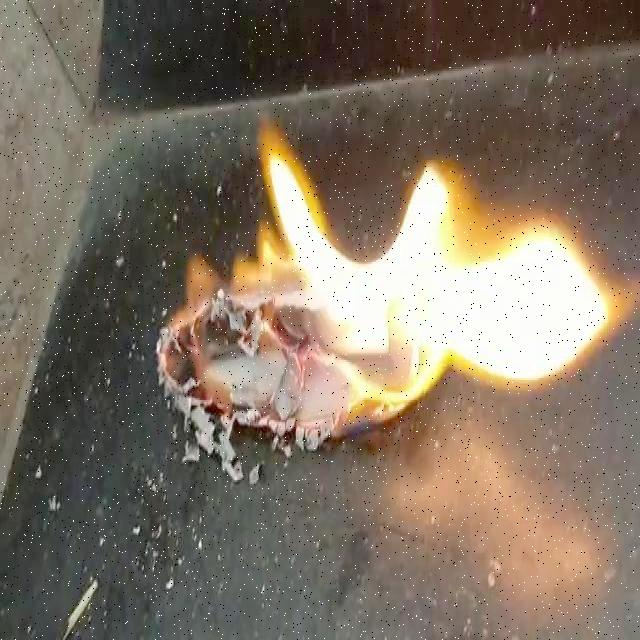fire: (269, 123, 625, 410), (158, 217, 290, 335)
